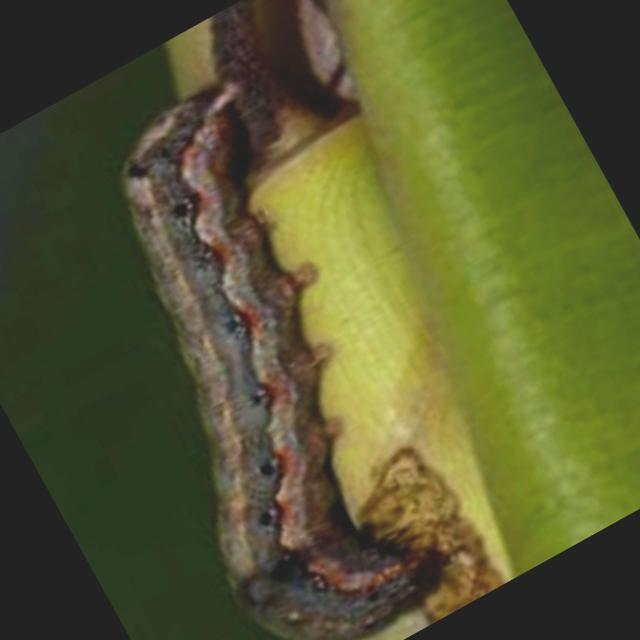Tobacco cutworm: (0, 12, 571, 640)
